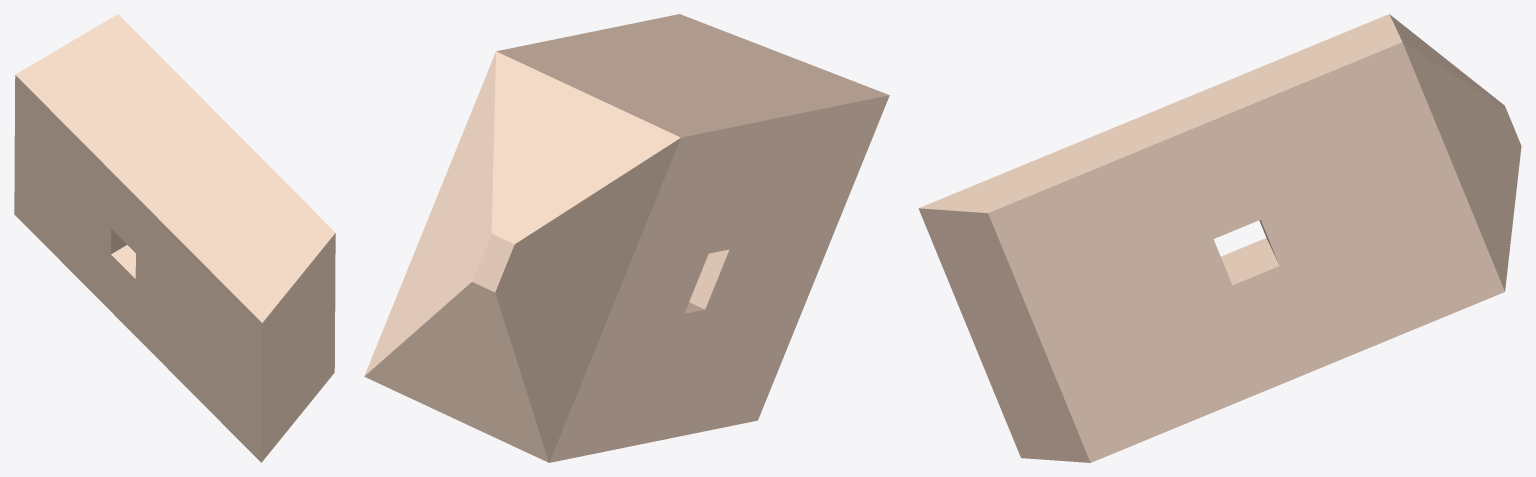
File: Marteau - masselote_Heures.obj
The picture shows the model from 3 angles, left to right: view 1: azimuth 30°, elevation 25°; view 2: azimuth 150°, elevation 25°; view 3: azimuth 270°, elevation 25°; orthographic projection. The views are drawn at different scales.
Parts seen in each view (by area): view 1: Face_5, Face_6, Face_8, Face_14; view 2: Face_6, Face_5, Face_1, Face_9, Face_10, Face_3, Face_2, Face_13; view 3: Face_7, Face_8, Face_5, Face_3, Face_14, Face_9.
Boxes of the visible parts, left/top/right/bottom form: Face_5: left=15, top=14, right=335, bottom=322; Face_6: left=14, top=75, right=262, bottom=462; Face_8: left=261, top=233, right=335, bottom=462; Face_14: left=111, top=245, right=135, bottom=278; Face_6: left=549, top=95, right=889, bottom=462; Face_5: left=496, top=14, right=889, bottom=137; Face_1: left=495, top=138, right=680, bottom=462; Face_9: left=491, top=51, right=680, bottom=244; Face_10: left=364, top=282, right=548, bottom=462; Face_3: left=364, top=52, right=495, bottom=375; Face_2: left=472, top=233, right=514, bottom=292; Face_13: left=689, top=249, right=729, bottom=309; Face_7: left=988, top=42, right=1504, bottom=462; Face_8: left=918, top=208, right=1090, bottom=462; Face_5: left=919, top=14, right=1402, bottom=212; Face_3: left=1402, top=42, right=1521, bottom=290; Face_14: left=1221, top=238, right=1279, bottom=285; Face_9: left=1389, top=14, right=1505, bottom=108.
Bounding box in the file's own units: 0.0143 × 0.0228 × 0.0296.
